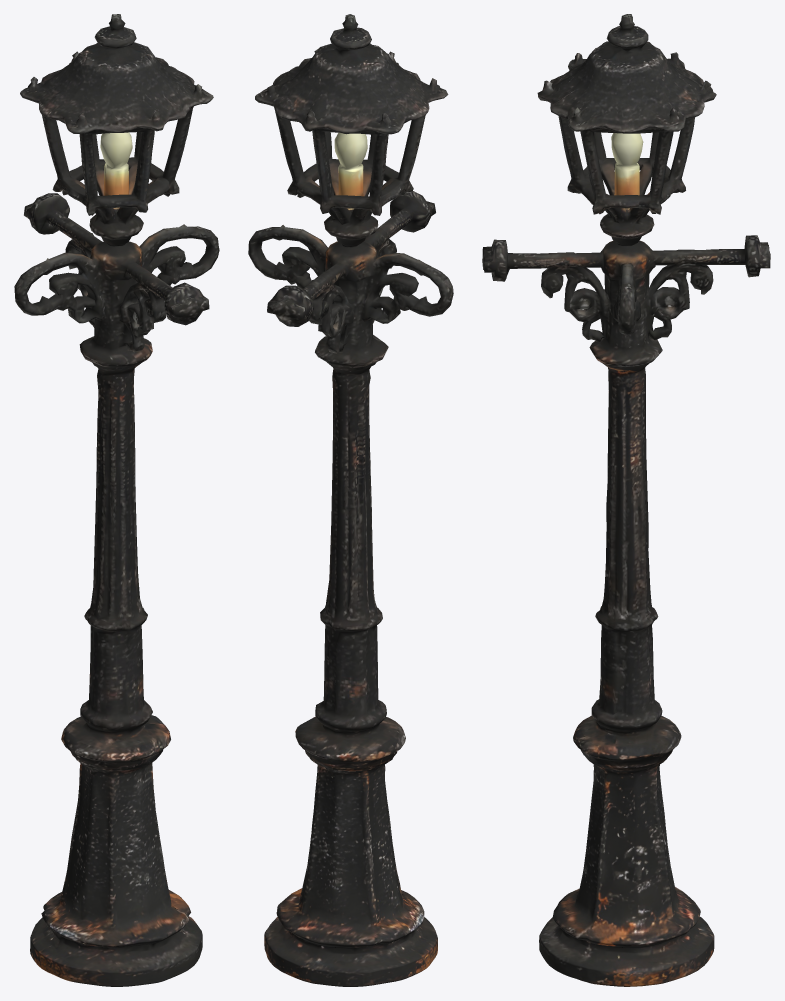
Rendered from street_lamp.glb.
3 renders of one model, left to right at view 1: azimuth 30°, elevation 25°; view 2: azimuth 150°, elevation 25°; view 3: azimuth 270°, elevation 25°, orthographic.
Parts seen in each view (by area): view 1: tripo_node_12b803df-a1d7-4a38-b7dd-c0c9e63d809a; view 2: tripo_node_12b803df-a1d7-4a38-b7dd-c0c9e63d809a; view 3: tripo_node_12b803df-a1d7-4a38-b7dd-c0c9e63d809a.
Part boxes in pixels (x1=…): tripo_node_12b803df-a1d7-4a38-b7dd-c0c9e63d809a: x1=14, y1=14, x2=219, y2=986; tripo_node_12b803df-a1d7-4a38-b7dd-c0c9e63d809a: x1=248, y1=14, x2=453, y2=986; tripo_node_12b803df-a1d7-4a38-b7dd-c0c9e63d809a: x1=482, y1=14, x2=770, y2=986.
Size of the model in its own units: 0.2276 by 1 by 0.2793.
Materials: 1 (1 with a texture image).
